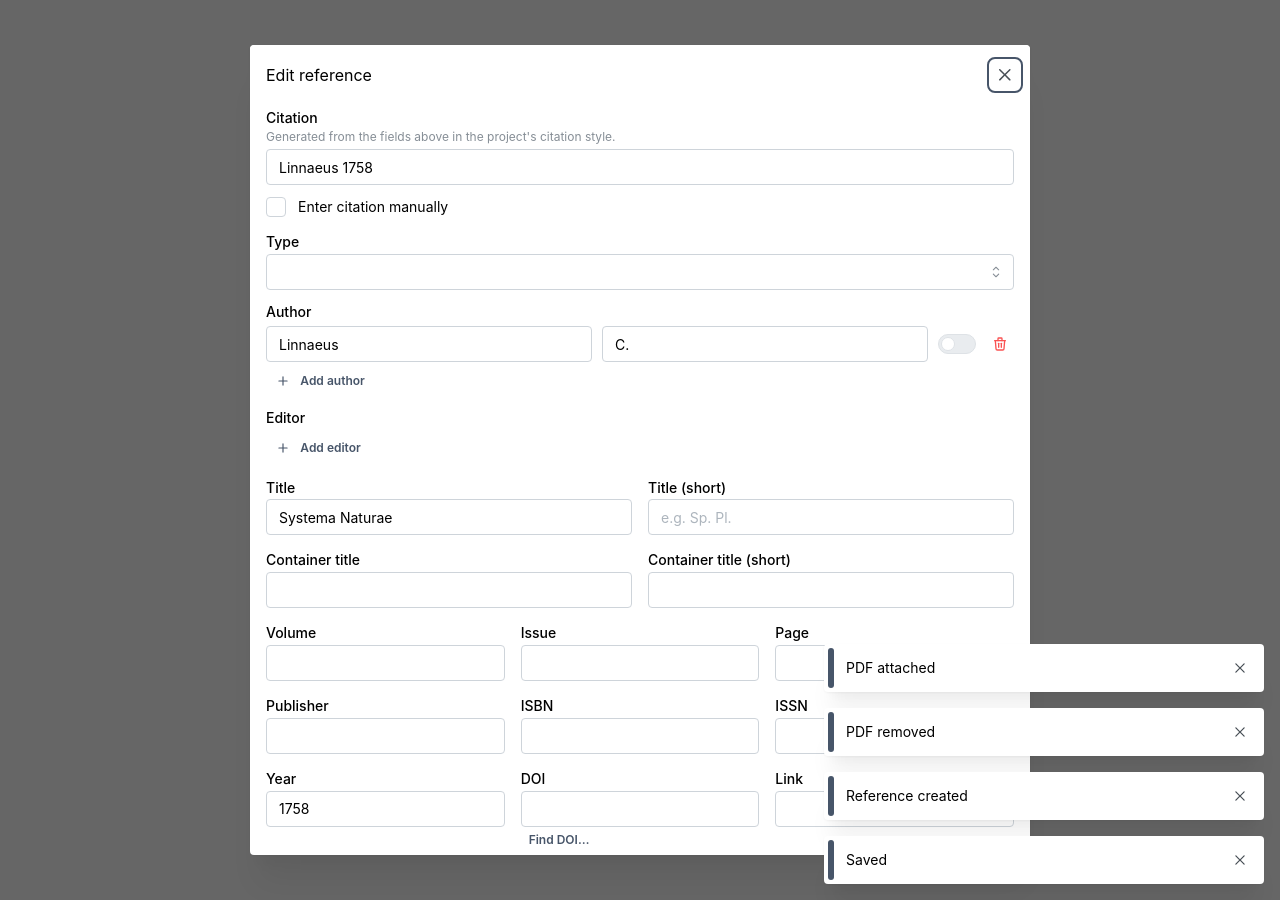
Test case: Type is a searchable Select fed by the CSL-type vocab
Step 1. Click the field labelled "Type" → point(640, 272), box [266, 254, 1014, 290]
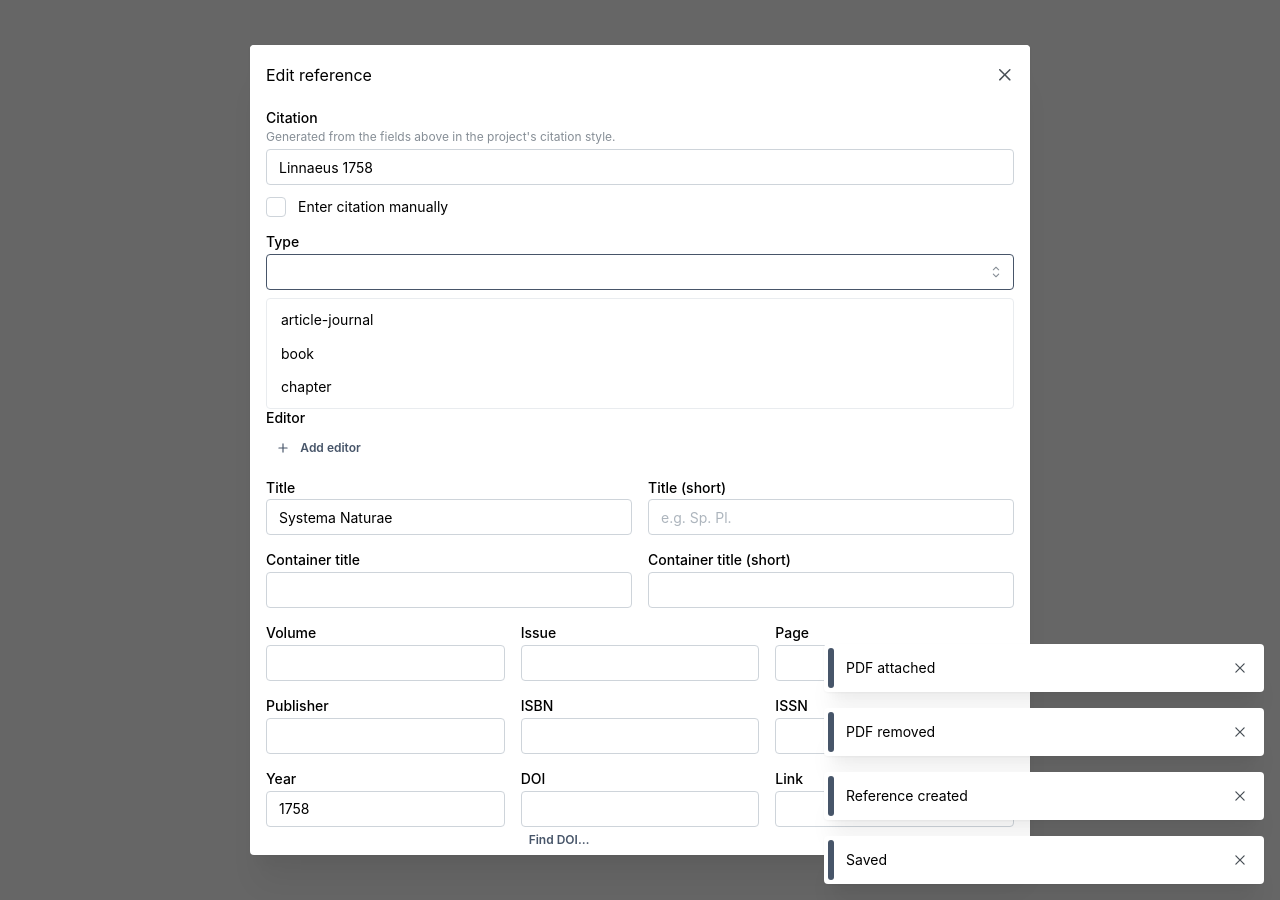
Expected: the option "article-journal" is shown, [281, 311, 373, 328]
Step 2. Click the option "book" → point(298, 353), box [281, 345, 314, 362]
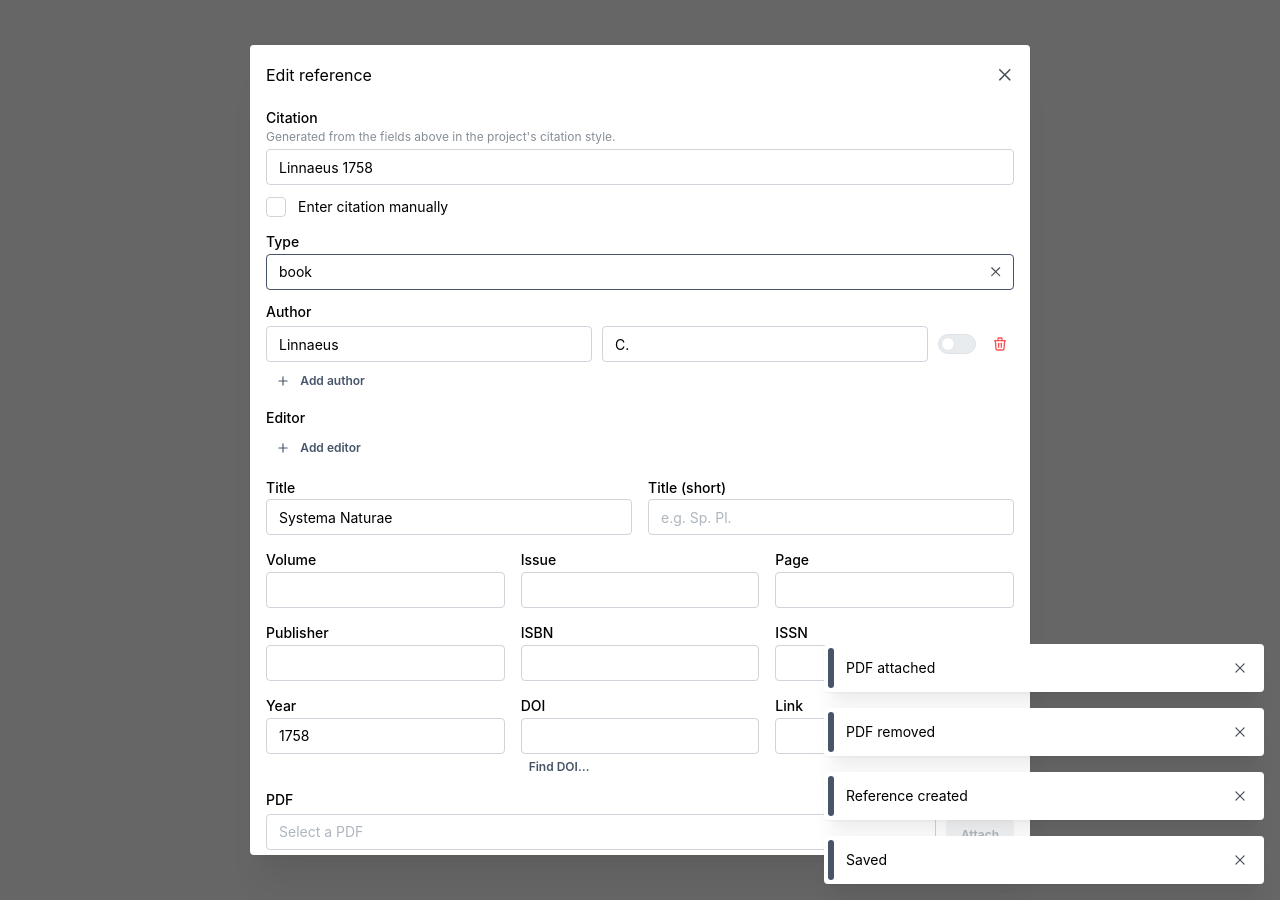
Expected: the field labelled "Type" holds "book", [266, 254, 1014, 290]
